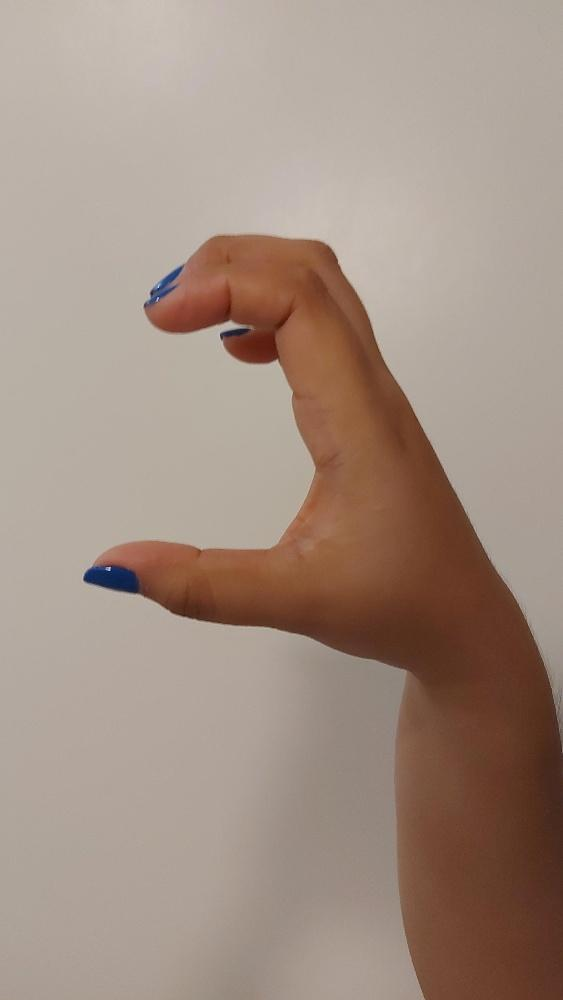c: (81, 230, 496, 672)
